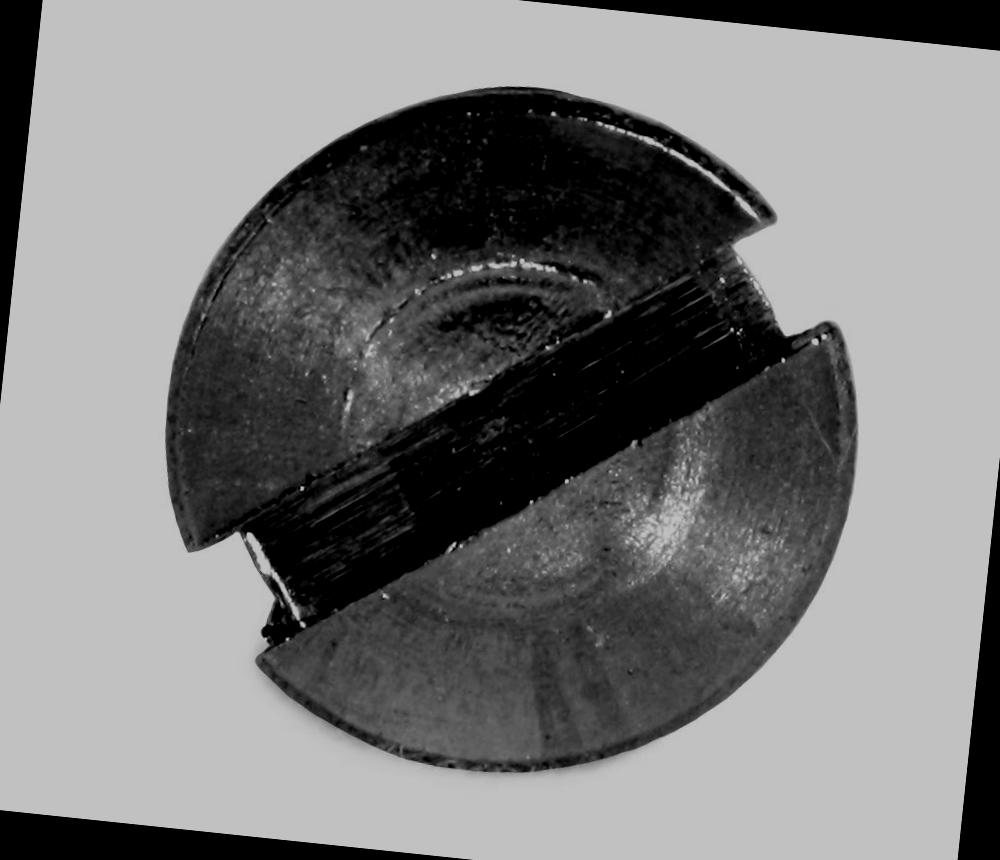screw: (142, 52, 890, 808)
